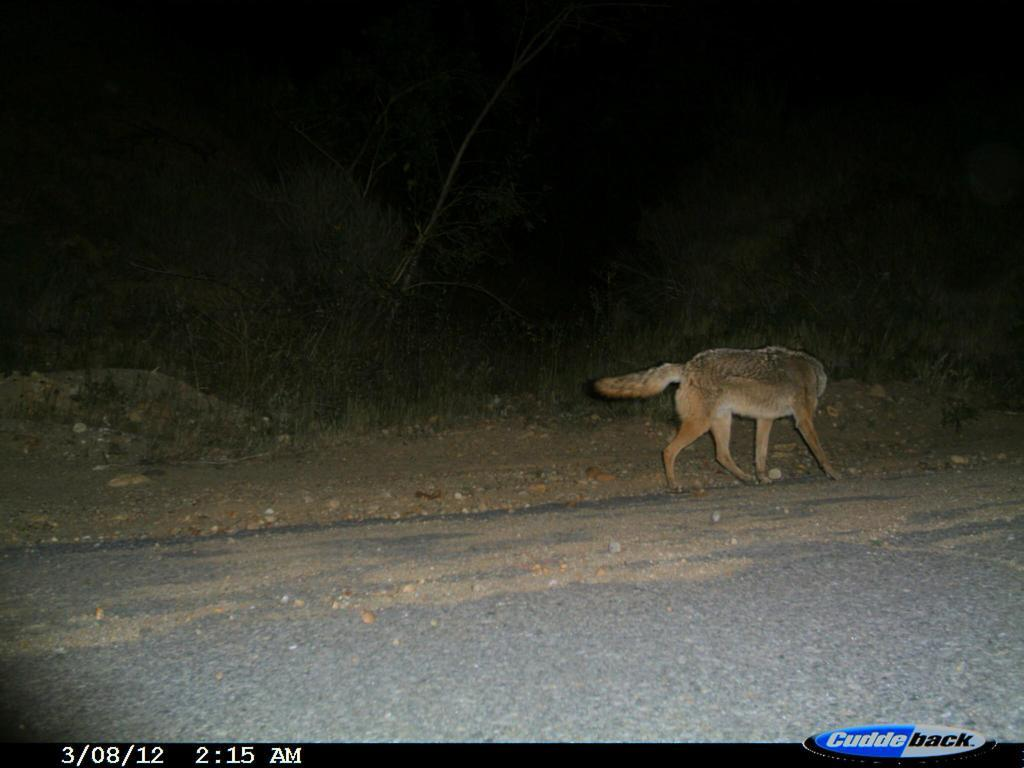coyote: (587, 335, 844, 493)
